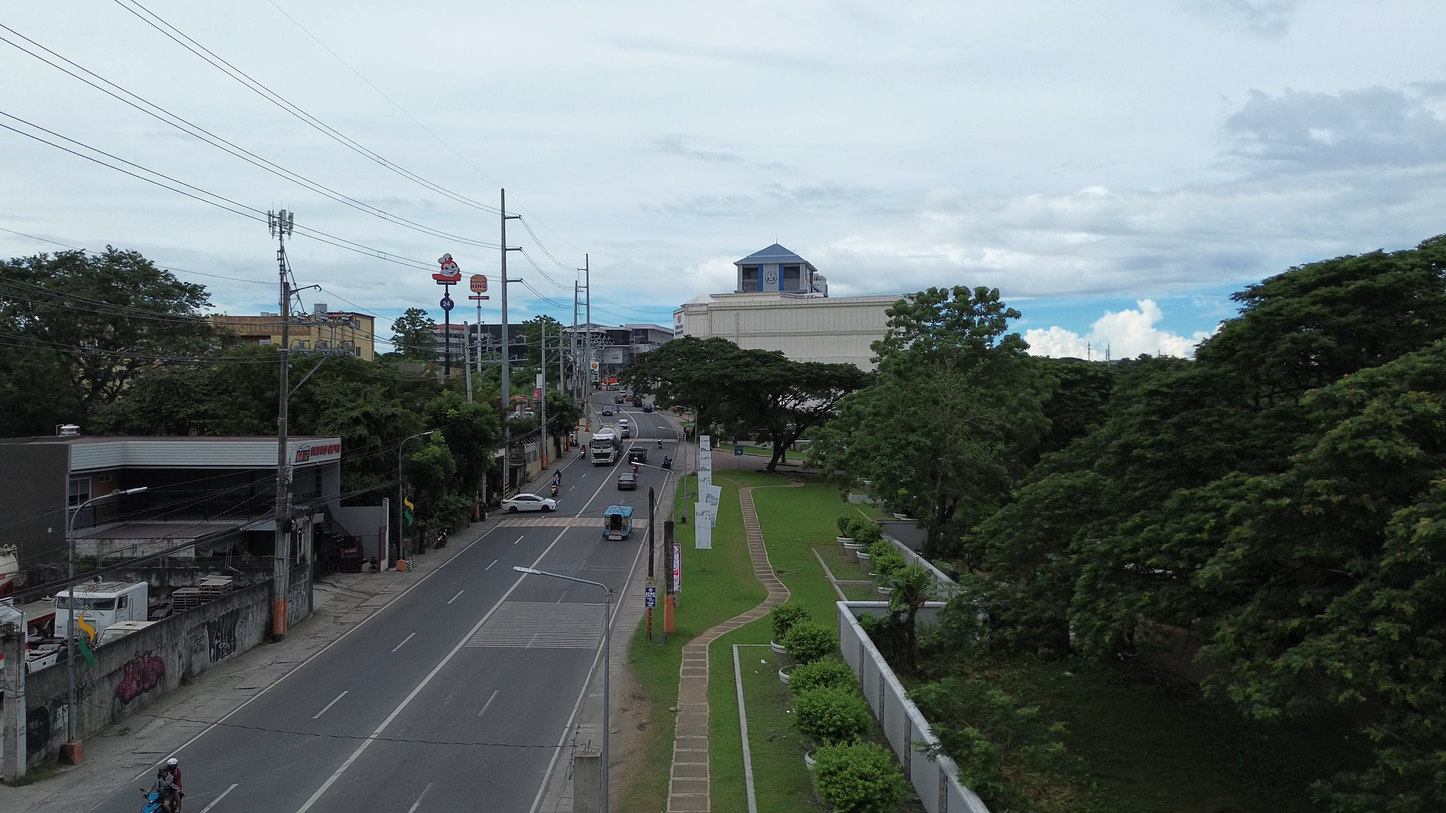car: (502, 493, 556, 513), (617, 471, 637, 490), (602, 406, 614, 416), (642, 403, 653, 413)
motorcycle: (436, 530, 447, 548), (661, 457, 672, 470)
vehicle: (54, 582, 149, 637), (98, 621, 156, 644), (589, 428, 620, 465), (603, 505, 633, 540), (628, 447, 647, 463), (618, 418, 631, 438), (660, 456, 672, 470), (612, 396, 624, 404), (624, 393, 634, 402)
